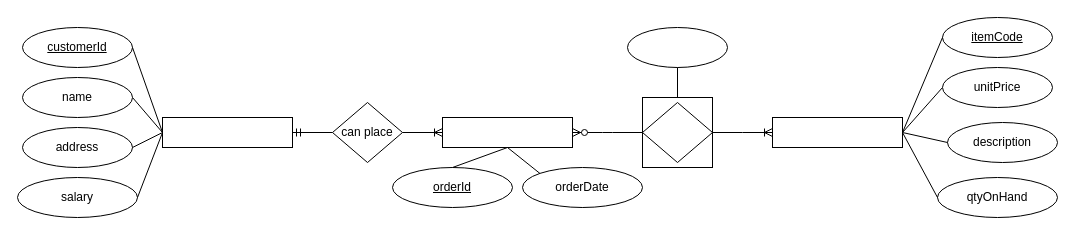
This 1075x235 diagram has some shape labels left out. The centre of each missing label's shape, as x and y in pixels:
Customer: (227,132)
have: (677,132)
Item: (837,132)
Order: (507,132)
Quantity: (677,47)
